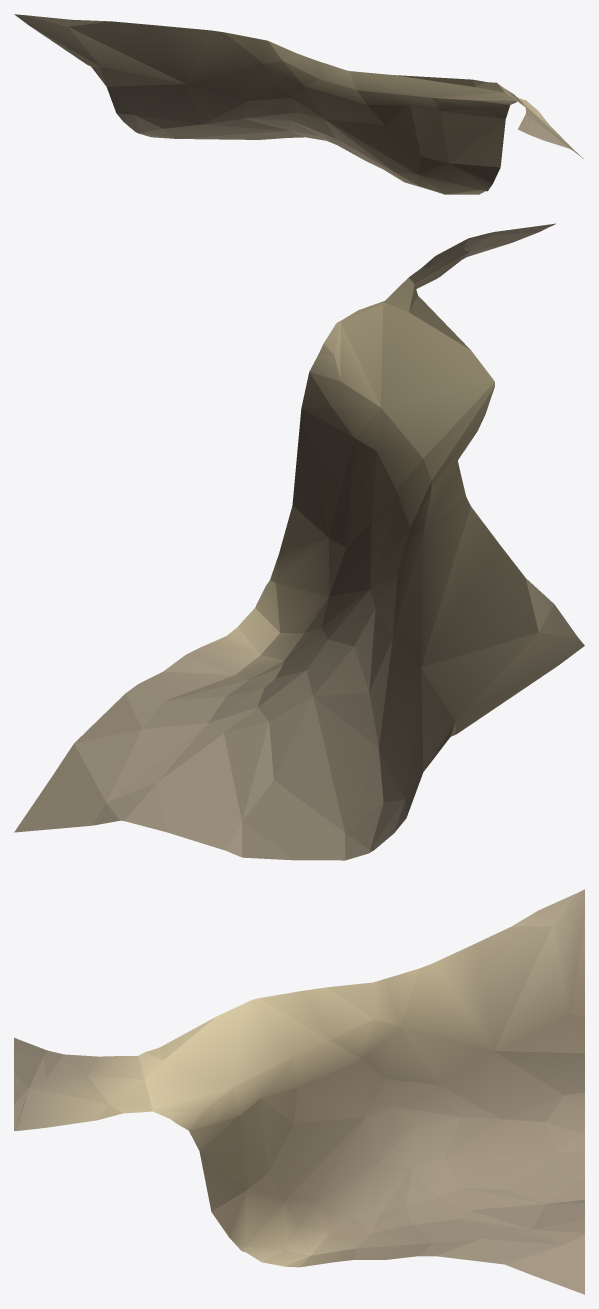
File: bisect-3-4-7.gltf
3 renders of one model, top to bottom at view 1: azimuth 30°, elevation 25°; view 2: azimuth 150°, elevation 25°; view 3: azimuth 270°, elevation 25°, orthographic. The views are drawn at different scales.
Parts seen in each view (by area): view 1: bisect-3-4-7; view 2: bisect-3-4-7; view 3: bisect-3-4-7.
Part boxes in pixels (bbox=[...]): bisect-3-4-7: bbox=[14, 14, 583, 194]; bisect-3-4-7: bbox=[14, 223, 584, 860]; bisect-3-4-7: bbox=[14, 889, 584, 1294].
Size of the model in its own units: 15.49 by 8.45 by 20.
